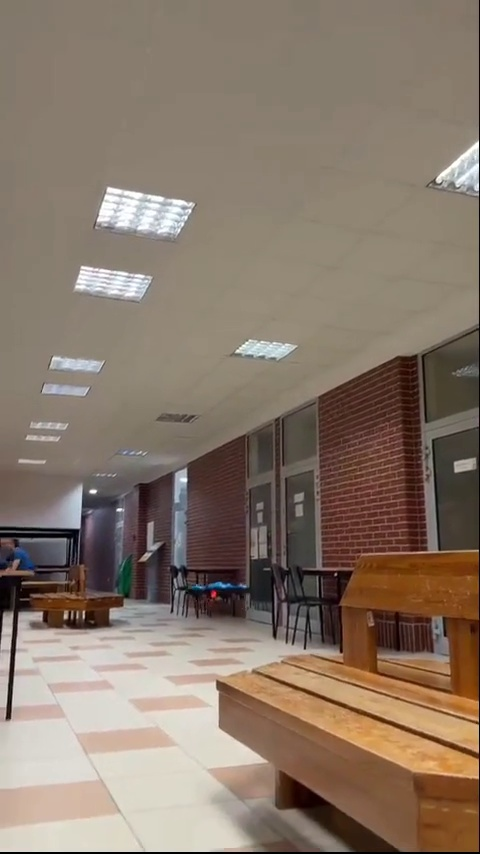drone: (188, 578, 248, 607)
no vest: (0, 536, 30, 592)
